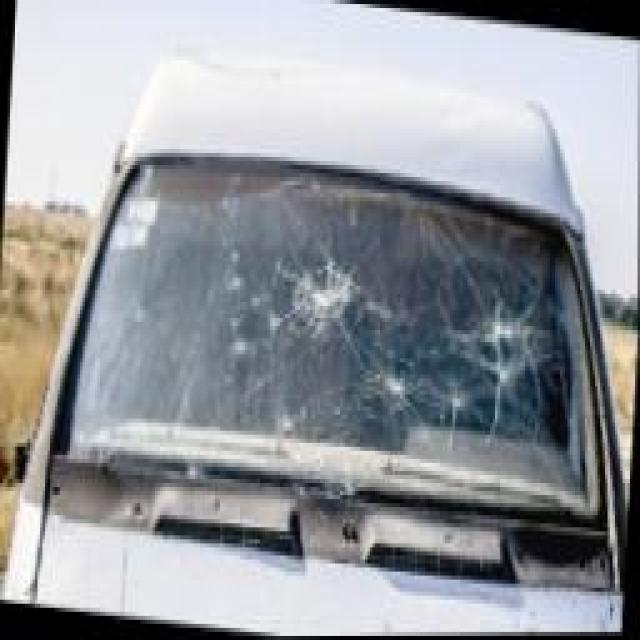Windshield: (65, 129, 584, 516)
